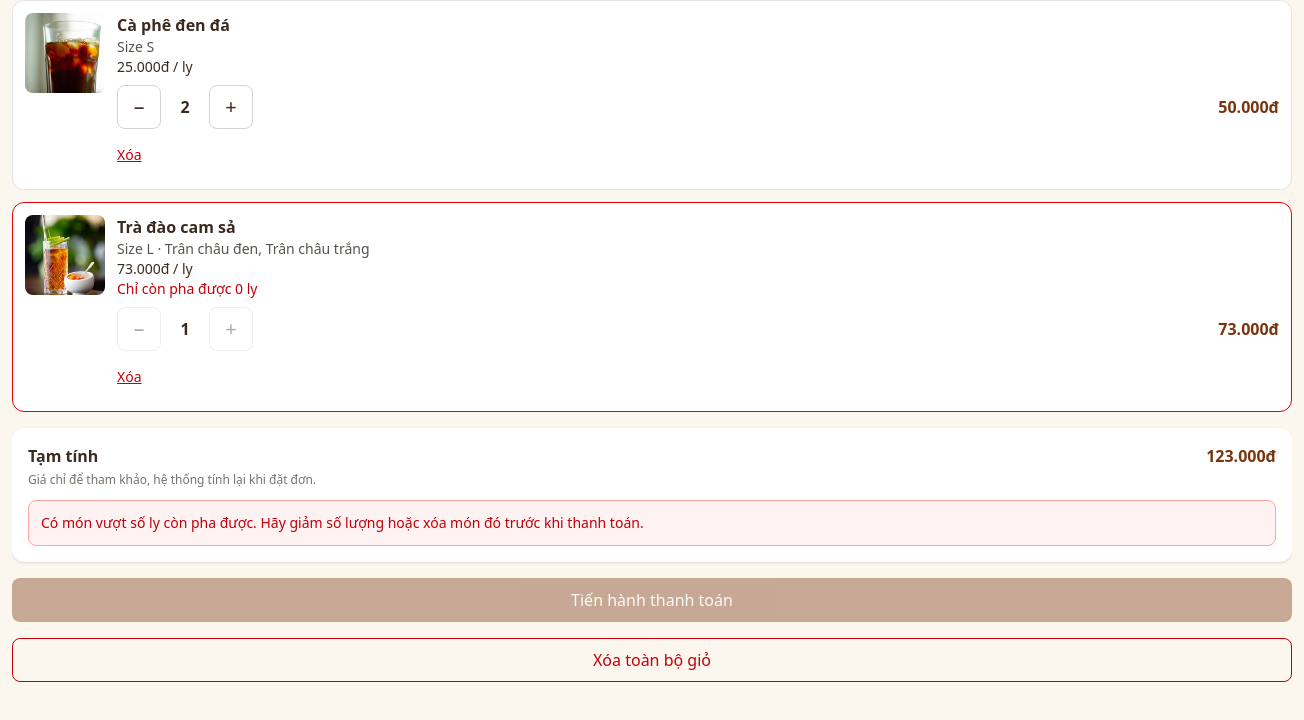
it: Cảnh báo vượt số ly còn pha được (CT-67 – CT-68) › CT-68: giỏ thay đổi thì hỏi lại server; hết vượt thì bỏ cảnh báo, nút thanh toán dẫn tới /checkout
The image size is (1304, 720).
Expected: the message is shown, x1=28 y1=500 x2=1276 y2=546
Click the button with aria-label "Xóa Trà đào cam sả size L". click: (129,377)
box: x1=117 y1=355 x2=142 y2=399
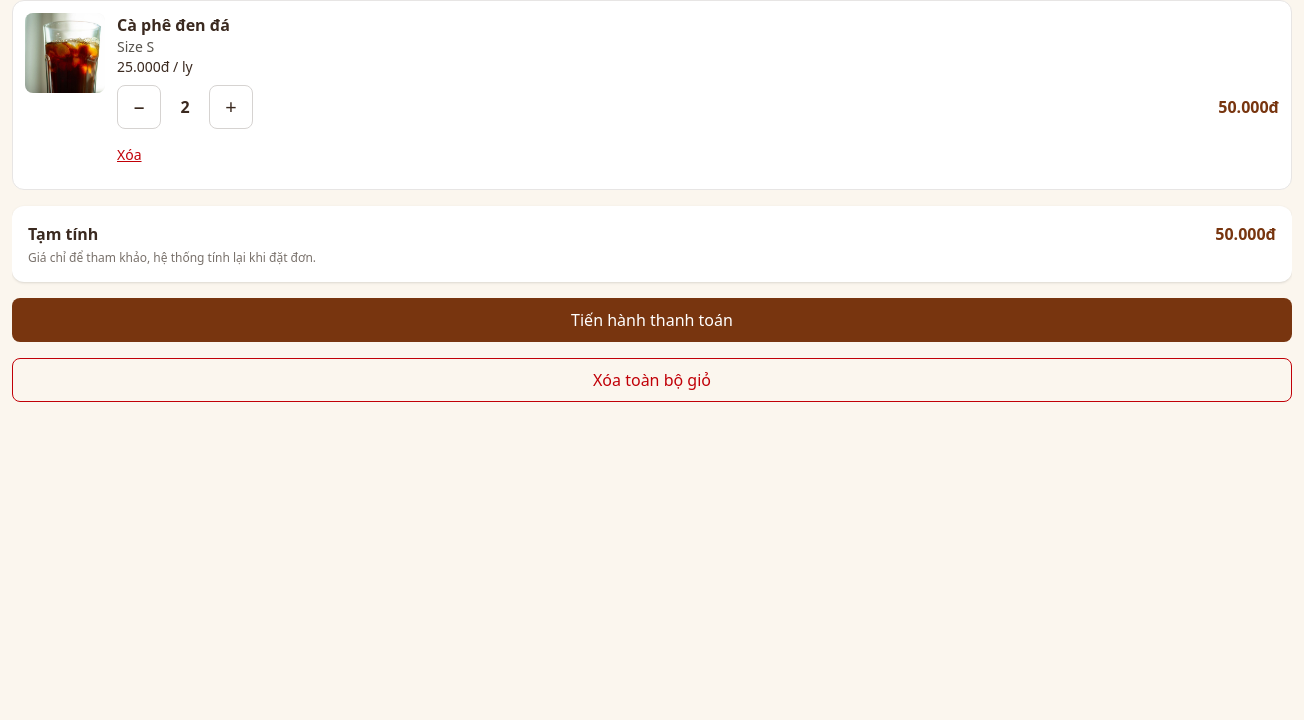
Expected: the message is gone
